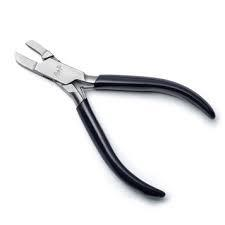pliers: (14, 38, 215, 197)
